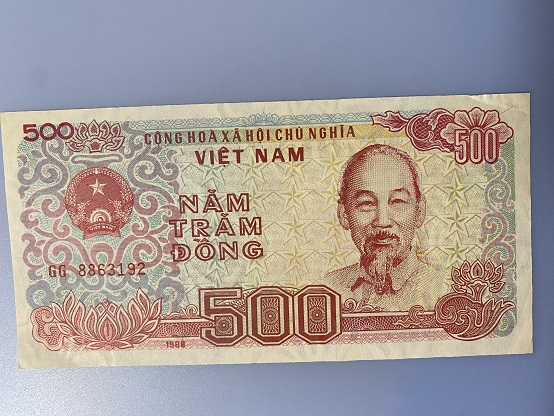500vnd: (3, 108, 536, 362)
